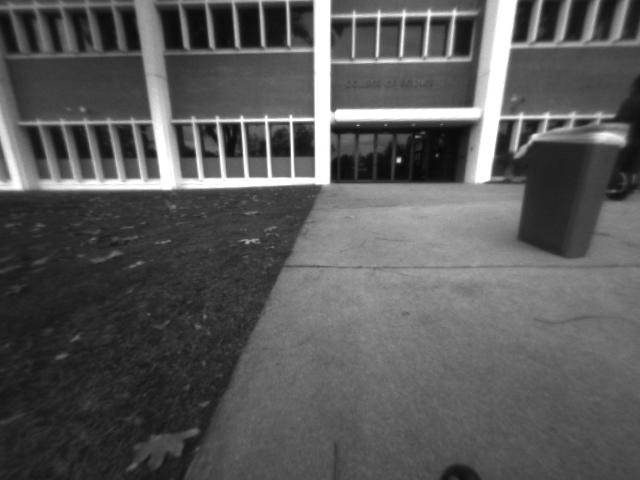trashcan: (512, 120, 634, 265)
